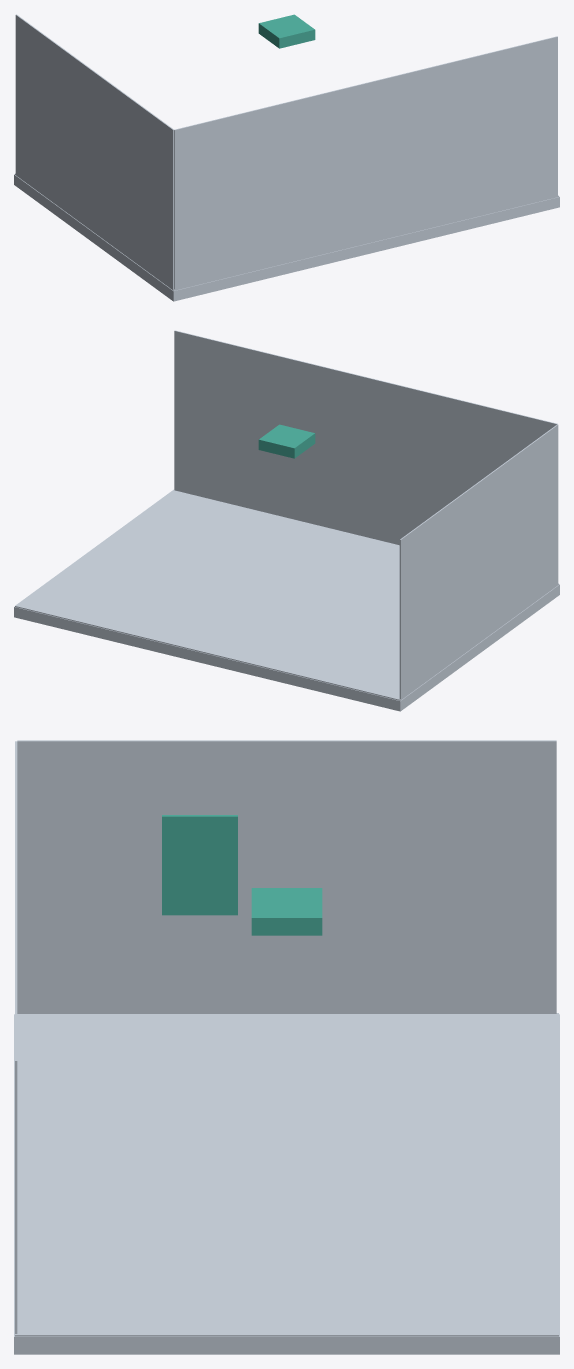
The model's file is livingroom-layout-attached.glb.
3 views of the same model, one above another, from view 1: azimuth 30°, elevation 25°; view 2: azimuth 150°, elevation 25°; view 3: azimuth 270°, elevation 25° (orthographic). The views are drawn at different scales.
Parts seen in each view (by area): view 1: wall_north_01_layout, wall_east_01_layout, Display foundation_layout, central_ceiling_light_01_mesh_layout, floor_01_layout; view 2: floor_01_layout, wall_north_01_layout, wall_east_01_layout, Display foundation_layout, central_ceiling_light_01_mesh_layout; view 3: floor_01_layout, wall_east_01_layout, Display foundation_layout, east_wall_poster_01_mesh_layout, central_ceiling_light_01_mesh_layout, wall_north_01_layout.
Boxes of the visible parts, x1,y1,x2,y2 form: wall_north_01_layout: [174, 36, 557, 290]; wall_east_01_layout: [15, 14, 174, 289]; Display foundation_layout: [14, 174, 559, 301]; central_ceiling_light_01_mesh_layout: [258, 14, 315, 48]; floor_01_layout: [15, 173, 558, 290]; floor_01_layout: [15, 489, 558, 700]; wall_north_01_layout: [174, 330, 557, 545]; wall_east_01_layout: [399, 424, 558, 699]; Display foundation_layout: [14, 584, 559, 711]; central_ceiling_light_01_mesh_layout: [258, 424, 315, 458]; floor_01_layout: [15, 1013, 558, 1336]; wall_east_01_layout: [17, 740, 556, 1013]; Display foundation_layout: [14, 1014, 559, 1354]; east_wall_poster_01_mesh_layout: [162, 815, 237, 915]; central_ceiling_light_01_mesh_layout: [251, 888, 322, 935]; wall_north_01_layout: [15, 741, 17, 1333].
Size of the model in its own units: 7.02 by 2.96 by 5.02.
